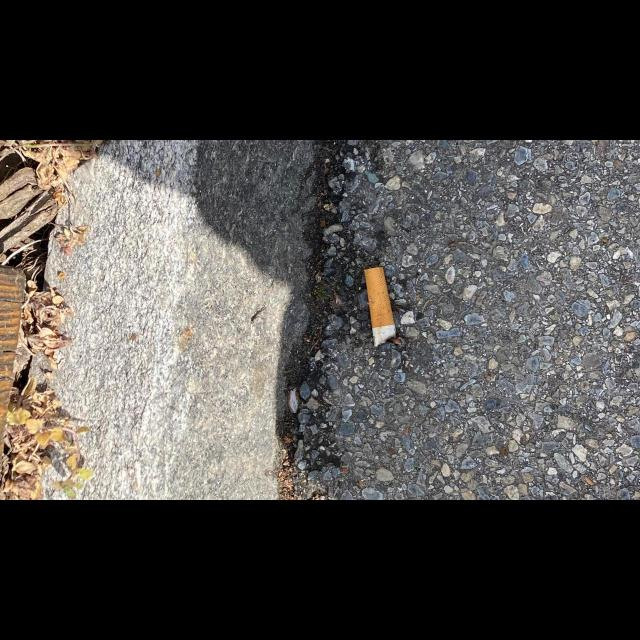cigarette: (362, 266, 397, 348)
